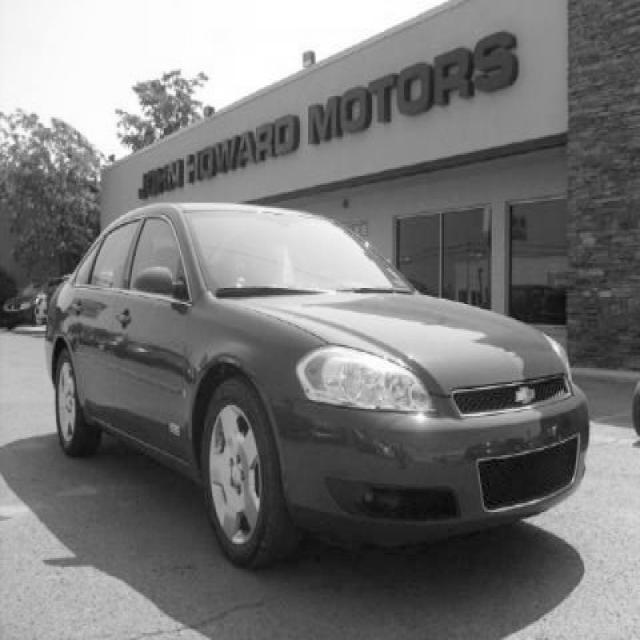car: (43, 199, 589, 569)
